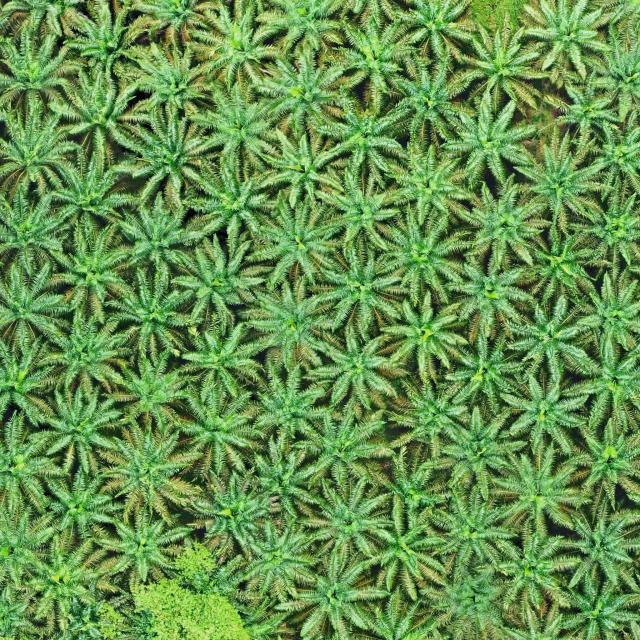Tree: (94, 408, 206, 532), (445, 166, 551, 274), (300, 320, 410, 422), (18, 380, 126, 482), (240, 267, 344, 372), (446, 21, 554, 120), (35, 223, 136, 328), (112, 108, 219, 207), (100, 258, 204, 359), (287, 400, 398, 494), (503, 135, 606, 235), (242, 194, 347, 292), (377, 208, 481, 306), (363, 488, 452, 602), (440, 86, 542, 184), (427, 480, 526, 580), (441, 243, 542, 340), (16, 530, 118, 626), (46, 72, 144, 170), (487, 518, 585, 616), (183, 2, 283, 98), (194, 76, 290, 175), (372, 288, 473, 382), (431, 405, 528, 501), (183, 464, 278, 562), (486, 446, 589, 536), (184, 158, 282, 252), (177, 375, 270, 474), (169, 235, 270, 326), (103, 201, 204, 291), (515, 0, 623, 84), (276, 554, 381, 640), (543, 502, 639, 596), (364, 439, 458, 535), (249, 123, 348, 214), (418, 551, 518, 640), (558, 328, 640, 436), (379, 139, 476, 229), (310, 169, 408, 258), (498, 292, 598, 379), (386, 48, 481, 139), (115, 38, 215, 124), (177, 314, 268, 408), (103, 342, 195, 434), (319, 239, 409, 333), (0, 404, 73, 518), (435, 325, 527, 415), (556, 412, 640, 510), (252, 357, 338, 452), (255, 45, 351, 130), (299, 478, 392, 565), (495, 368, 588, 454), (519, 221, 606, 312), (60, 0, 155, 81), (237, 514, 322, 603), (39, 313, 132, 393), (100, 506, 192, 586), (389, 371, 472, 458), (312, 100, 410, 173), (323, 12, 407, 97), (0, 31, 80, 120), (0, 109, 77, 198), (46, 144, 126, 228), (243, 434, 319, 518), (38, 465, 118, 544), (552, 569, 640, 640), (0, 194, 72, 278), (0, 331, 59, 433), (573, 180, 640, 268), (581, 268, 640, 366), (554, 65, 630, 139), (589, 113, 640, 201), (171, 538, 218, 594)
